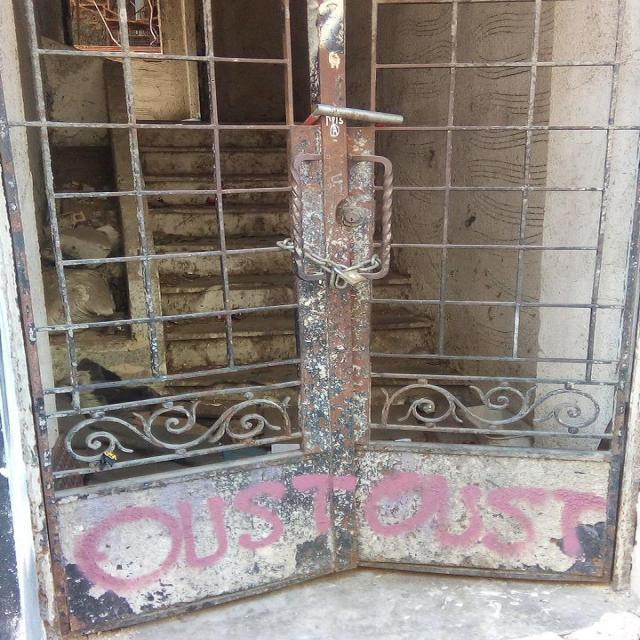nonspitting: (80, 472, 602, 594)
